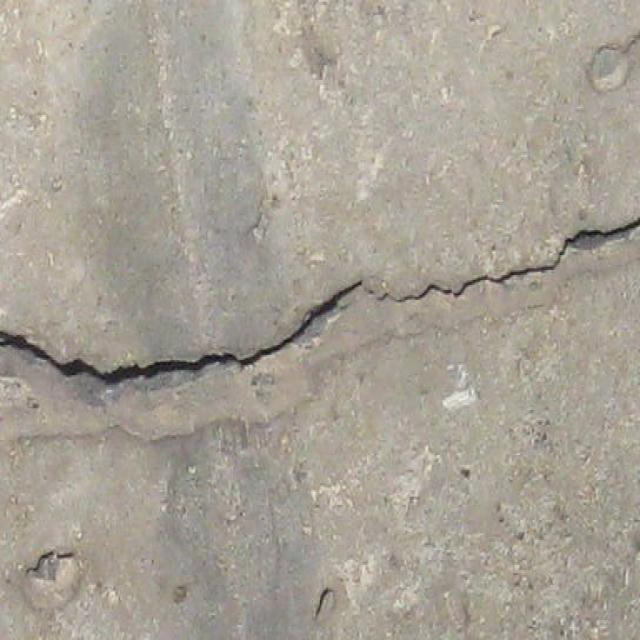Diagonal: (362, 216, 640, 307), (243, 272, 363, 367)
Transverse: (0, 279, 239, 387)
Turtle-shell patterned: (18, 543, 82, 594)
